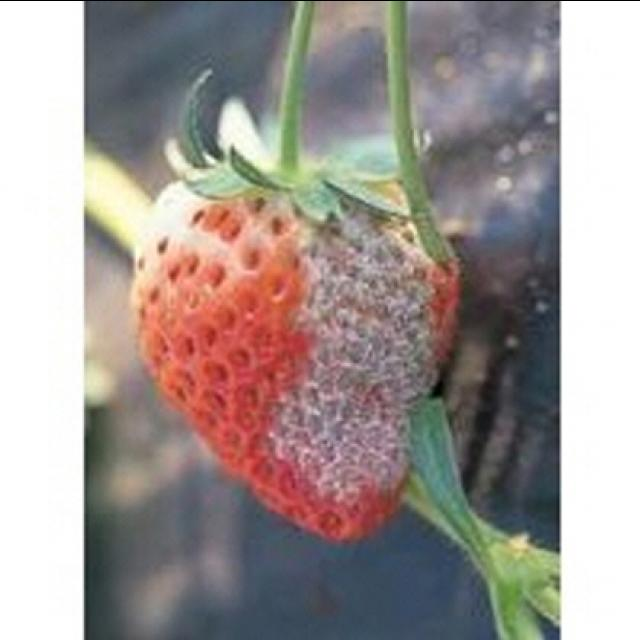Gray Mold: (257, 183, 444, 511)
